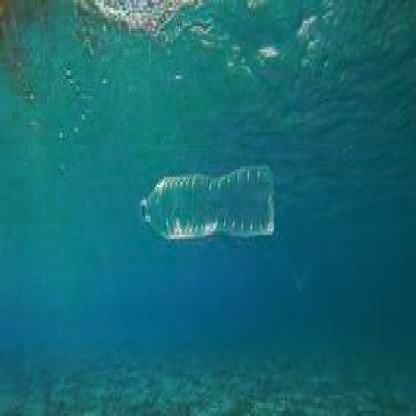pbottle: (132, 161, 287, 255)
